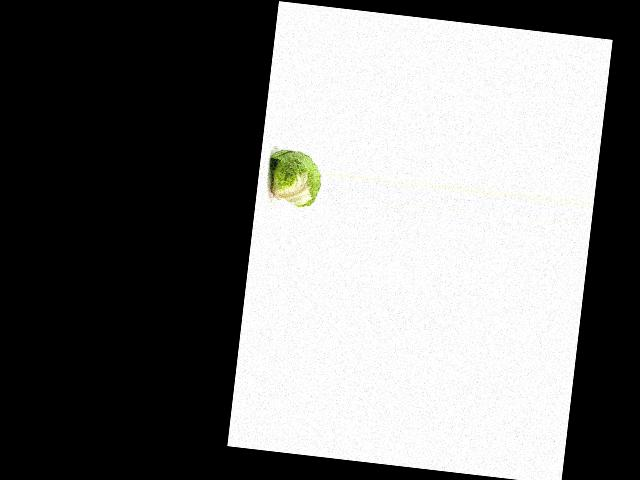lettuce: (262, 146, 324, 210)
